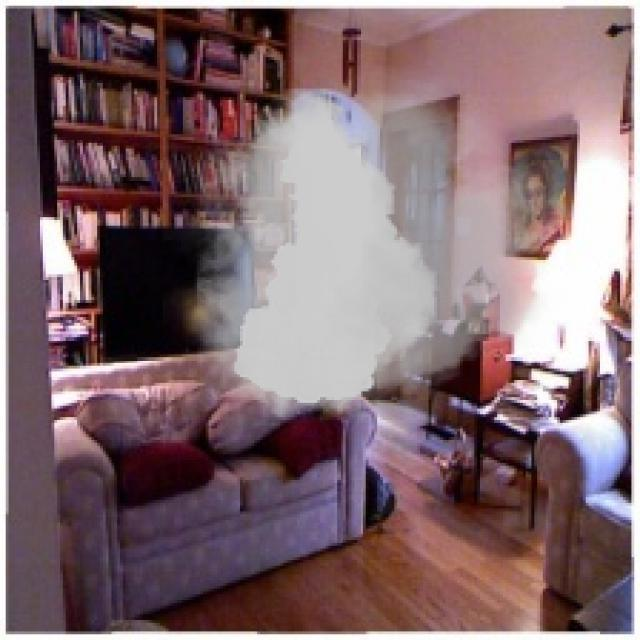Smoke: (162, 66, 588, 428)
